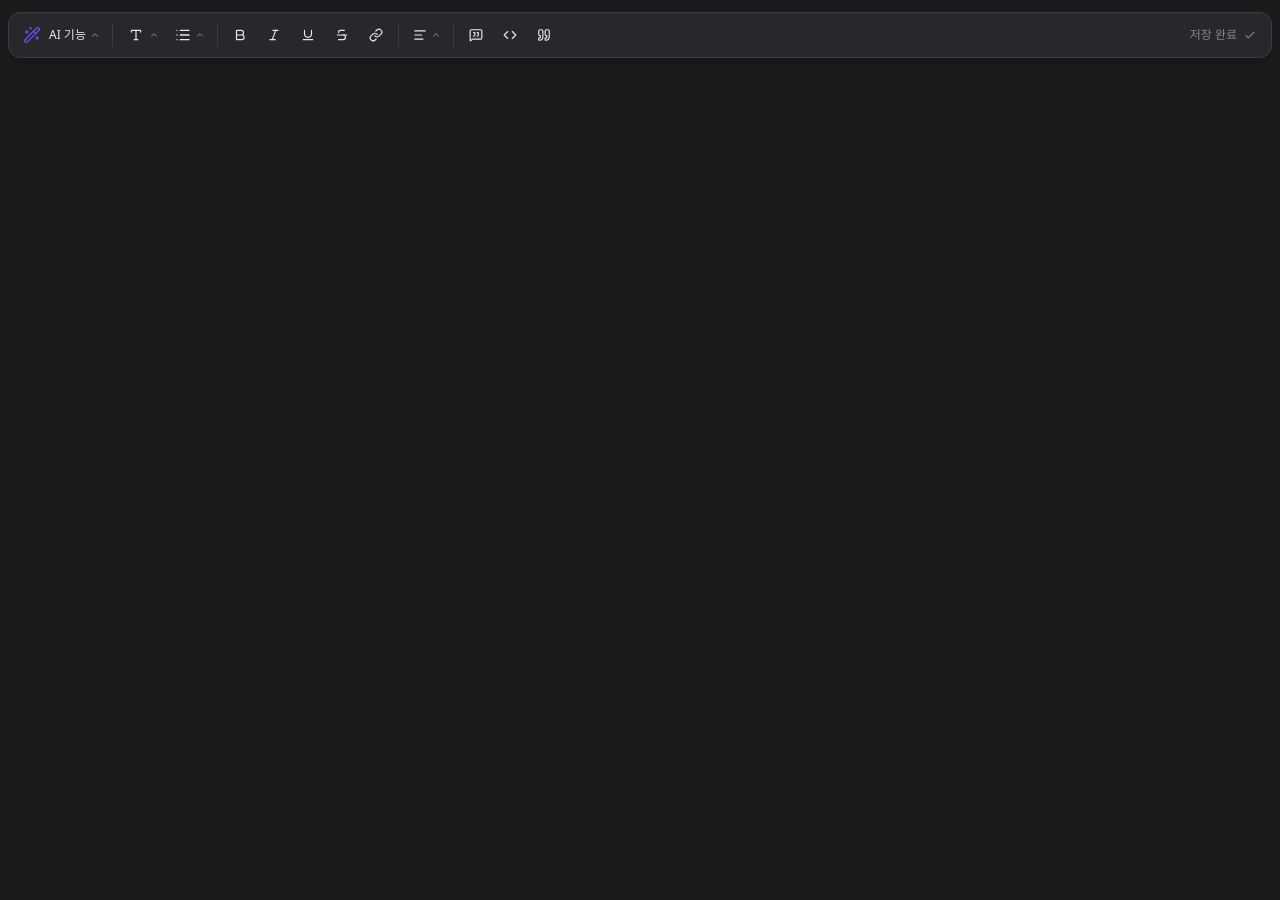
Test: ToolbarStandard Component › Button Interaction Tests › Link 버튼 클릭 시 링크 모달이 열려야 함
The width and height of the screenshot is (1280, 900).
Click the button named "link". click: (376,35)
box: 360,19 -> 392,51
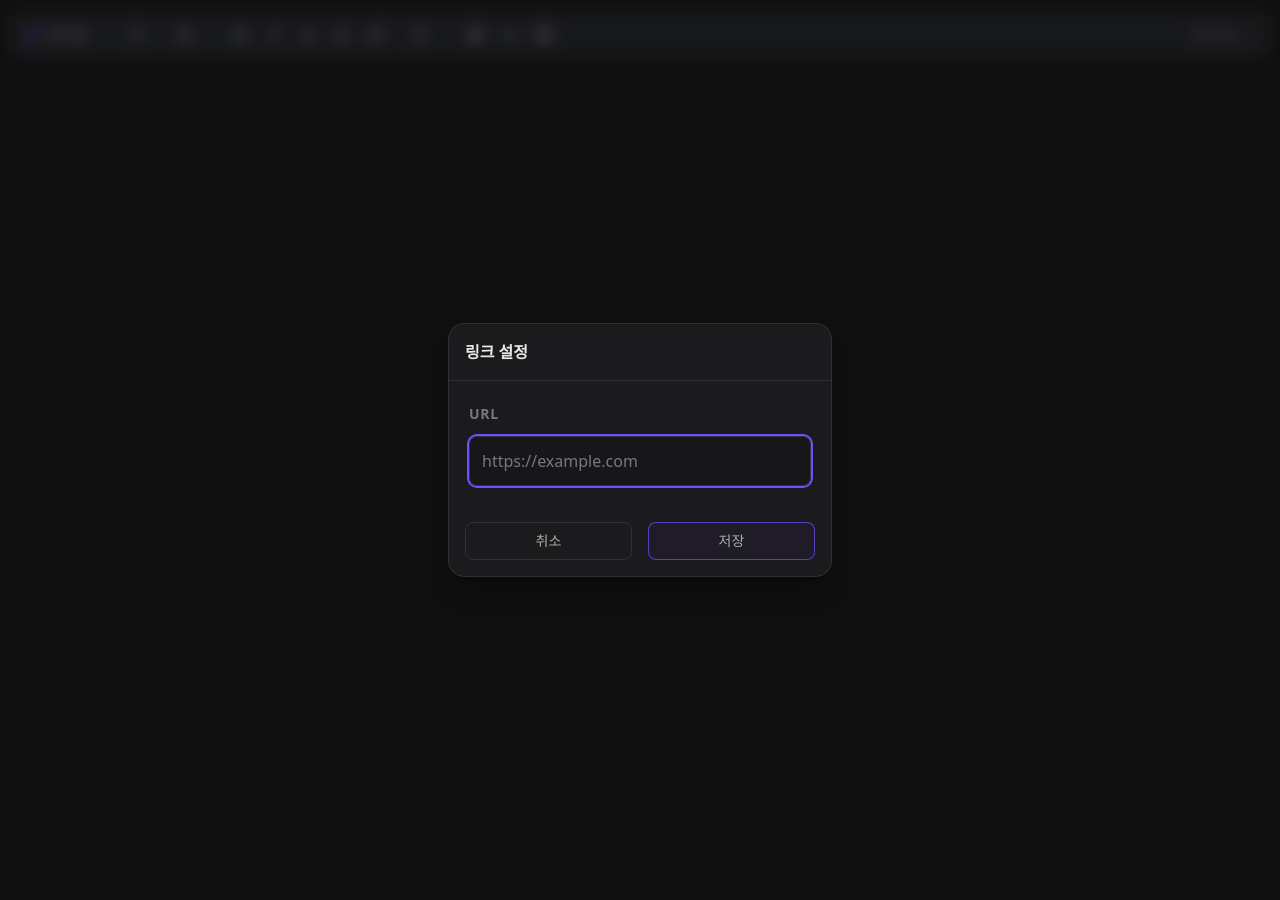
Expected: the field with placeholder "https://example.com" is shown, 469,436 -> 811,486
